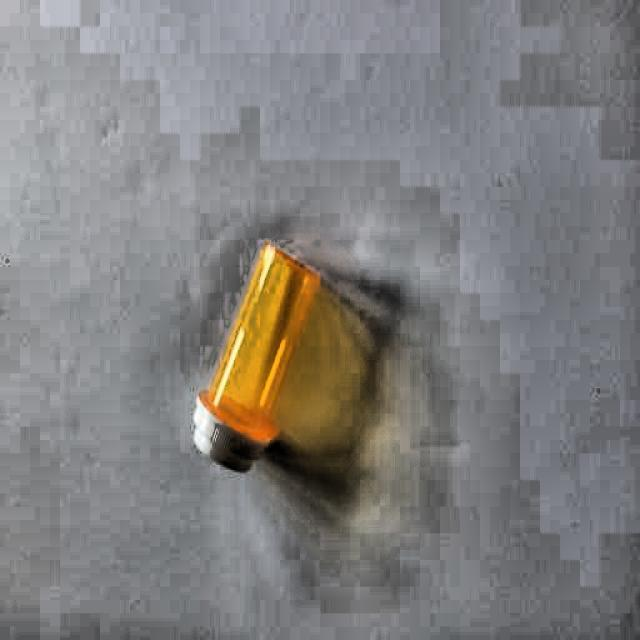plastic: (191, 238, 319, 480)
